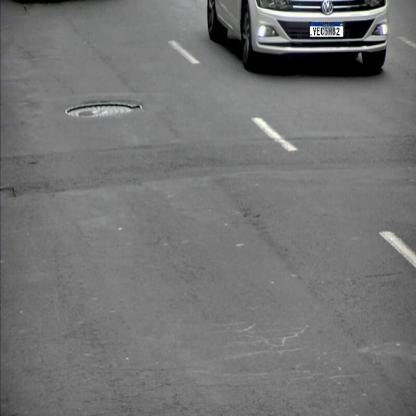PlacaM: (309, 22, 344, 38)
